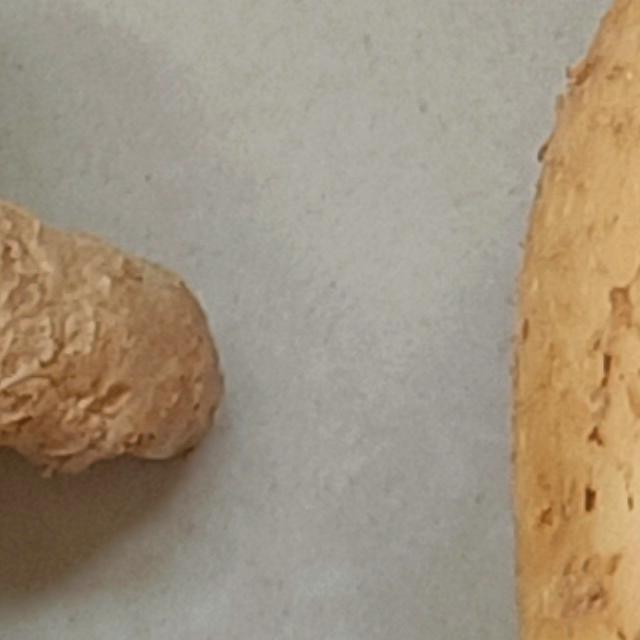ginger: (0, 0, 242, 640)
